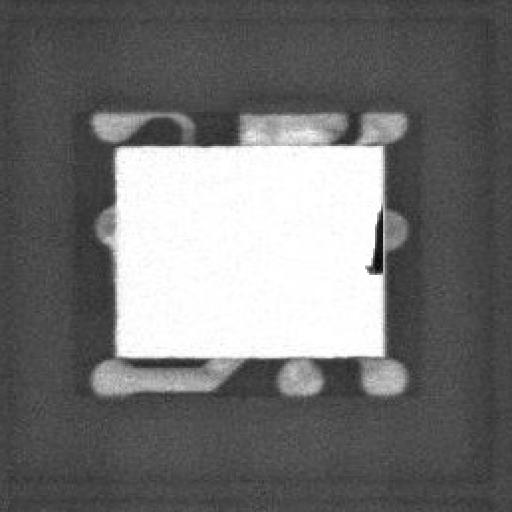DIE_BROKEN: (363, 203, 385, 277)
